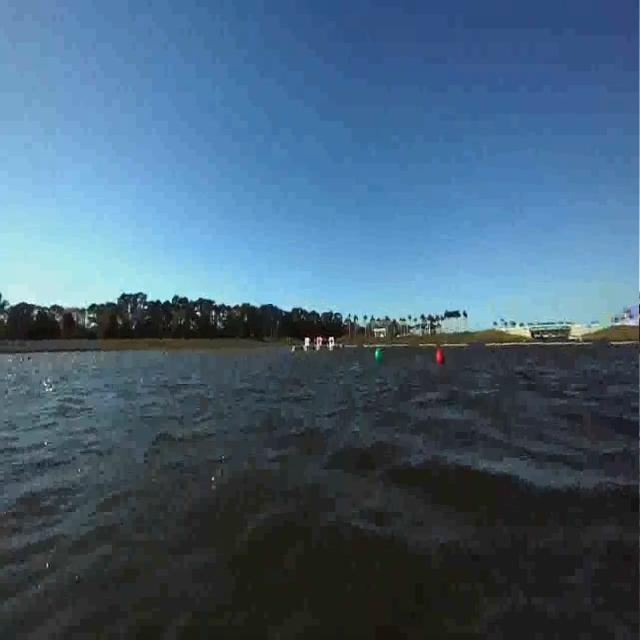green-buoy: (376, 349, 384, 362)
red-buoy: (435, 348, 443, 365)
